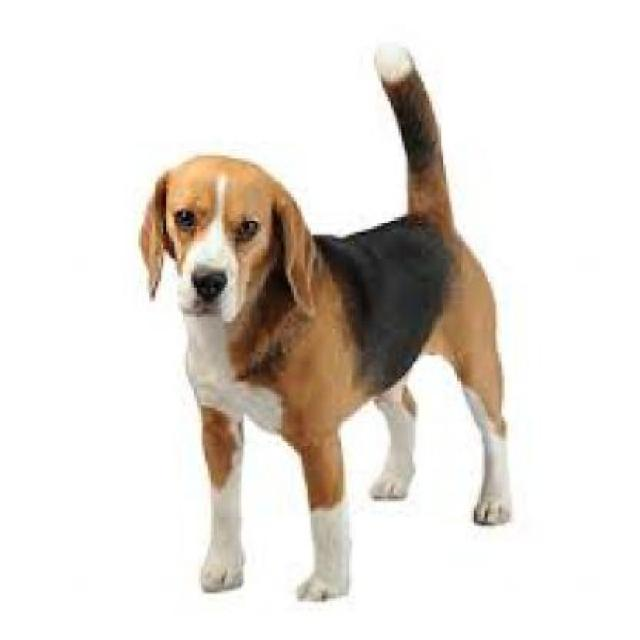Dog: (129, 39, 525, 603)
